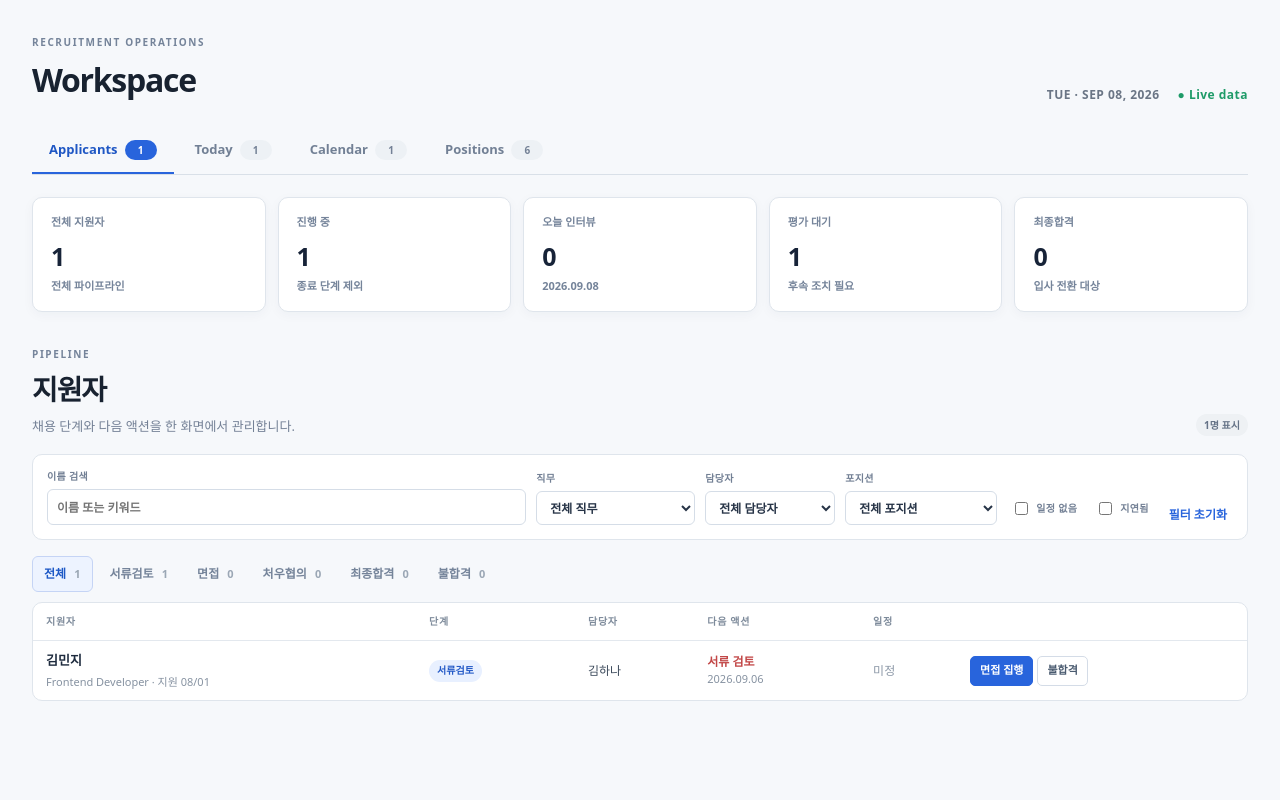
moves ordinary stages without a confirmation and shows the updated row
Click the button with aria-label "면접 집행 · 김민지 · applicant-001" at (1002, 670), box 970,656 -> 1033,686
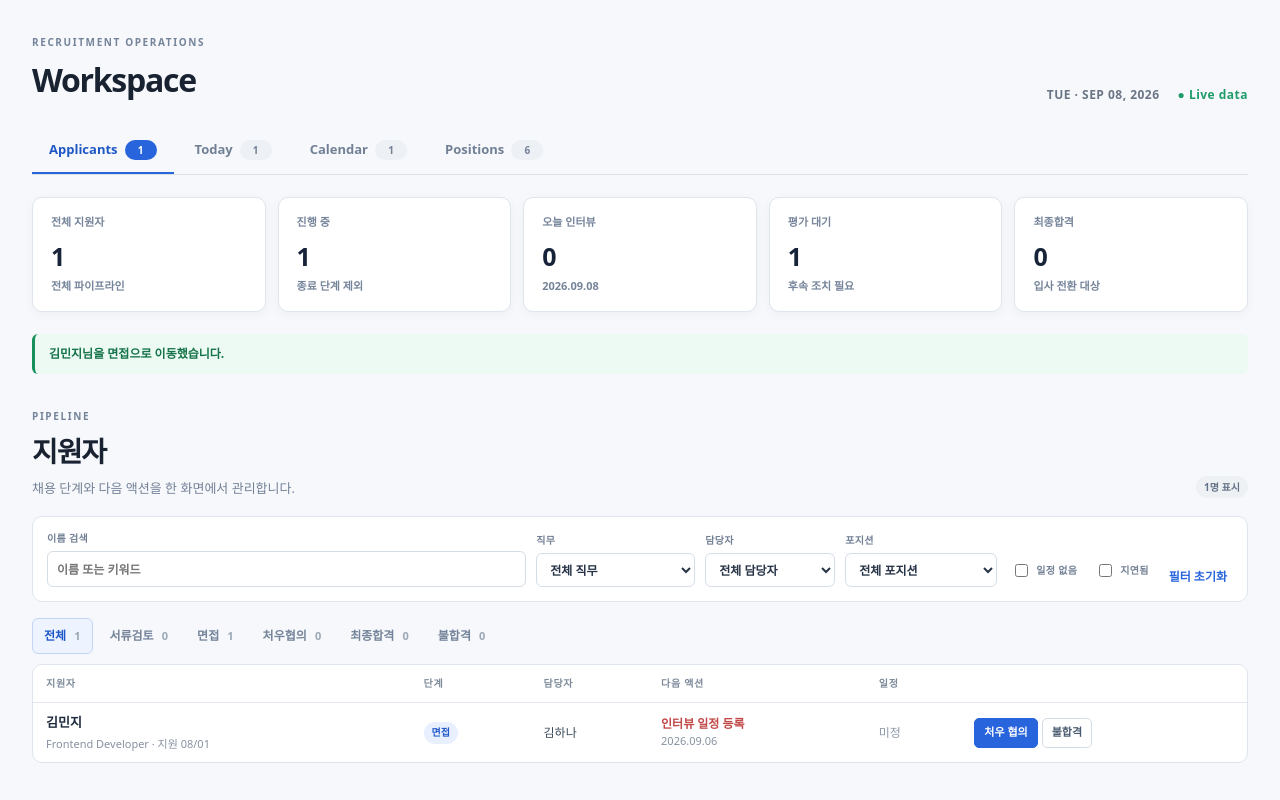
Expected: the button with aria-label "처우 협의 · 김민지 · applicant-001" does not show "처우협의로 진행", 974,718 -> 1038,748
Now the message shows "면접", box 32,334 -> 1248,374
Now the button with aria-label "처우 협의 · 김민지 · applicant-001" reads "처우 협의", box 974,718 -> 1038,748
